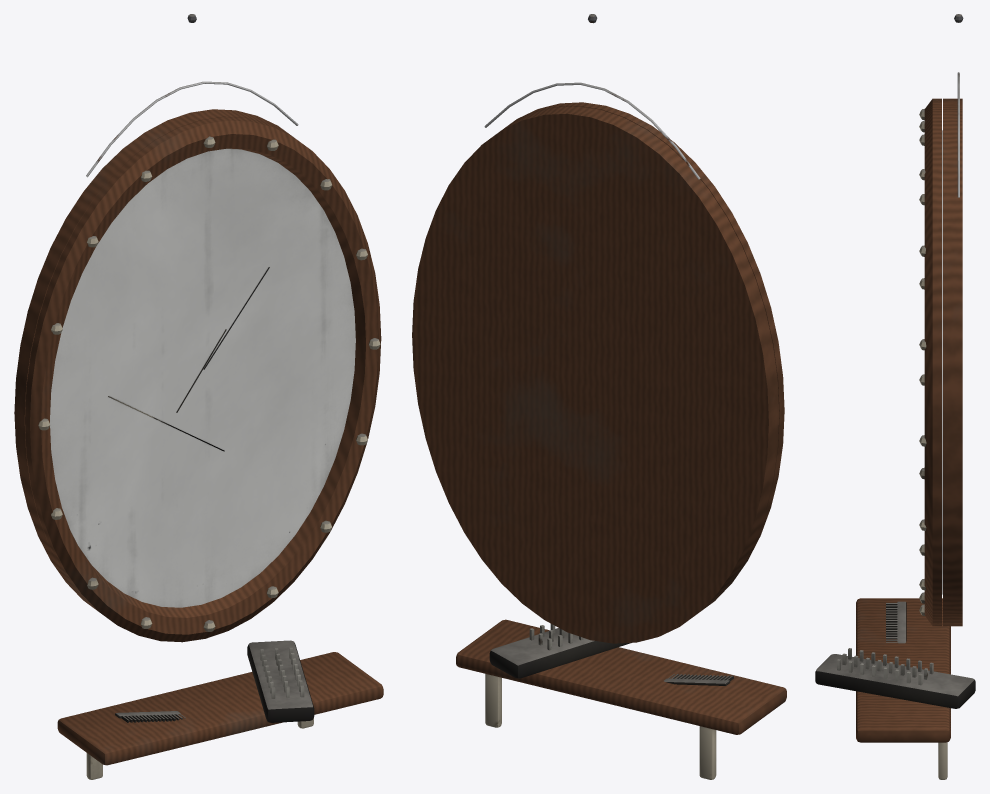
The model's file is SM_Mirror_Wall.fbx.
3 renders of one model, left to right at view 1: azimuth 30°, elevation 25°; view 2: azimuth 150°, elevation 25°; view 3: azimuth 270°, elevation 25°, orthographic. The views are drawn at different scales.
Visible parts, largest first — view 1: SM_Mirror_Wall; view 2: SM_Mirror_Wall; view 3: SM_Mirror_Wall.
Part boxes in pixels (x1=…): SM_Mirror_Wall: x1=14, y1=14, x2=383, y2=779; SM_Mirror_Wall: x1=412, y1=14, x2=786, y2=779; SM_Mirror_Wall: x1=815, y1=14, x2=975, y2=779.
Size of the model in its own units: 0.5 by 0.996 by 0.203.
1 material, 1 textured.
